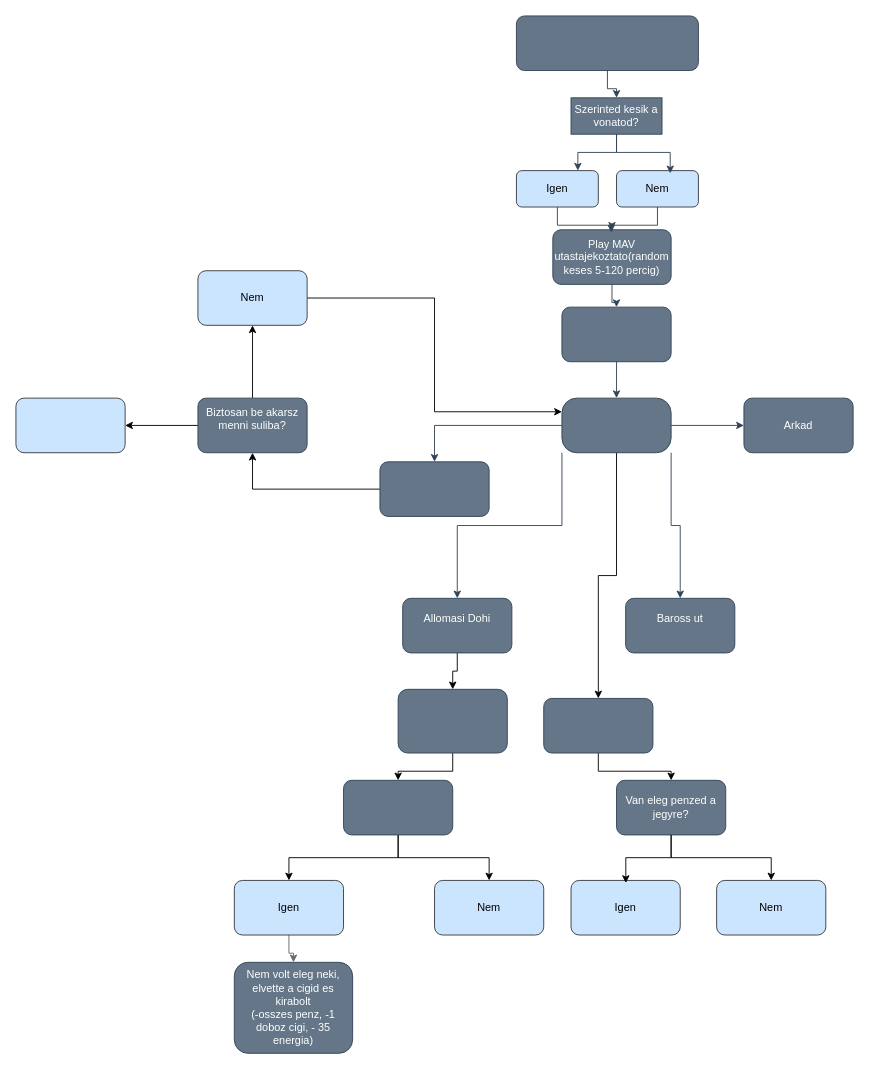
Image size: 869x1069. Some labels were removed from this diagram. The shapes that lost their labels are listed below. From the top down, each one's centre as x and y in pixels, then its label:
At (607,43): "Gyomore vasutallomas(spawn/loading screen)".
At (616,334): "Megjon a vonat, erkezes Gyorbe".
At (70,425): "Igen (-40 energia, penz nem no)".
At (616,425): "Allomas(spawn2)".
At (434,488): "Iskola(Lyedlick)".
At (452,720): "Mivel nem multal el 18, kotelezo valakit bekuldeni(csak csovesek vannak)".
At (598,725): "Felszallnal a Becsbe tarto vonatra".
At (398,807): "Adsz neki pluszban penzt?".
